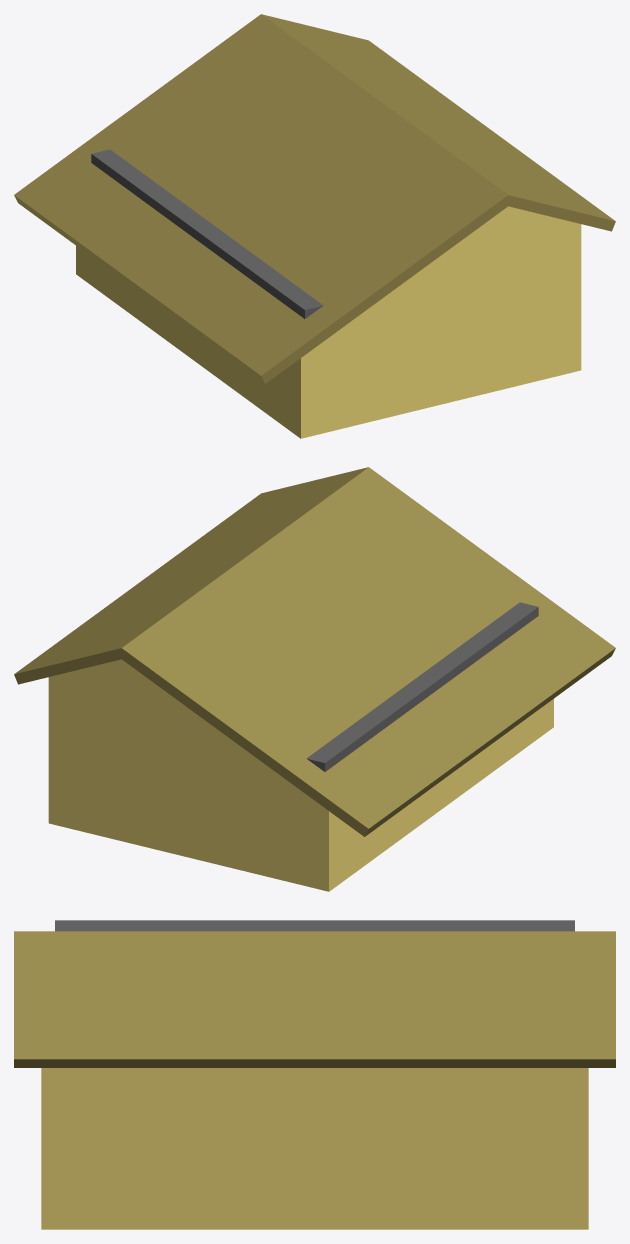
The model's file is result.glb.
The picture shows the model from 3 angles, top to bottom: view 1: azimuth 30°, elevation 25°; view 2: azimuth 150°, elevation 25°; view 3: azimuth 270°, elevation 25°; orthographic projection. The views are drawn at different scales.
Visible parts, largest first — view 1: 33c87496-4b5f-4589-a6e8-4594ddfaaee3__undefined (×2), 79bd8a3f-afde-40a3-96a0-259b3bcdf016__undefined, e111a9dd-d4f5-407c-926d-55afa6cc07b9__Box; view 2: 33c87496-4b5f-4589-a6e8-4594ddfaaee3__undefined (×2), 79bd8a3f-afde-40a3-96a0-259b3bcdf016__undefined, e111a9dd-d4f5-407c-926d-55afa6cc07b9__Box; view 3: 79bd8a3f-afde-40a3-96a0-259b3bcdf016__undefined, 33c87496-4b5f-4589-a6e8-4594ddfaaee3__undefined, e111a9dd-d4f5-407c-926d-55afa6cc07b9__Box.
Part boxes in pixels (<box>): 33c87496-4b5f-4589-a6e8-4594ddfaaee3__undefined (×2): <box>14,14,615,383</box>; 79bd8a3f-afde-40a3-96a0-259b3bcdf016__undefined: <box>76,206,581,438</box>; e111a9dd-d4f5-407c-926d-55afa6cc07b9__Box: <box>91,149,323,318</box>; 33c87496-4b5f-4589-a6e8-4594ddfaaee3__undefined (×2): <box>14,467,615,836</box>; 79bd8a3f-afde-40a3-96a0-259b3bcdf016__undefined: <box>48,659,553,891</box>; e111a9dd-d4f5-407c-926d-55afa6cc07b9__Box: <box>306,602,538,771</box>; 79bd8a3f-afde-40a3-96a0-259b3bcdf016__undefined: <box>41,1068,588,1229</box>; 33c87496-4b5f-4589-a6e8-4594ddfaaee3__undefined: <box>14,931,615,1067</box>; e111a9dd-d4f5-407c-926d-55afa6cc07b9__Box: <box>55,920,574,931</box>.
Size of the model in its own units: 911 by 501 by 1100.
